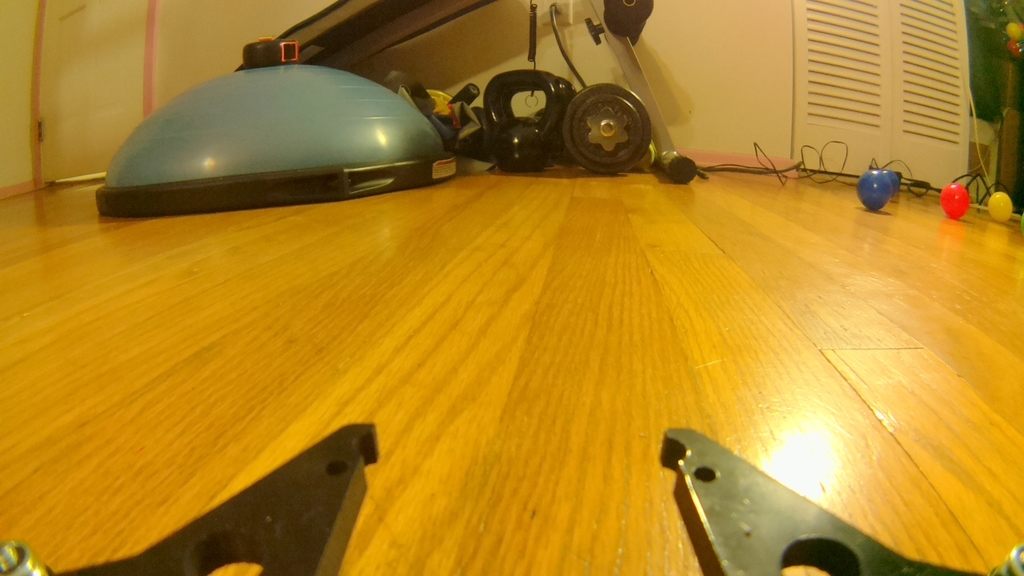ball: (985, 191, 1013, 223)
